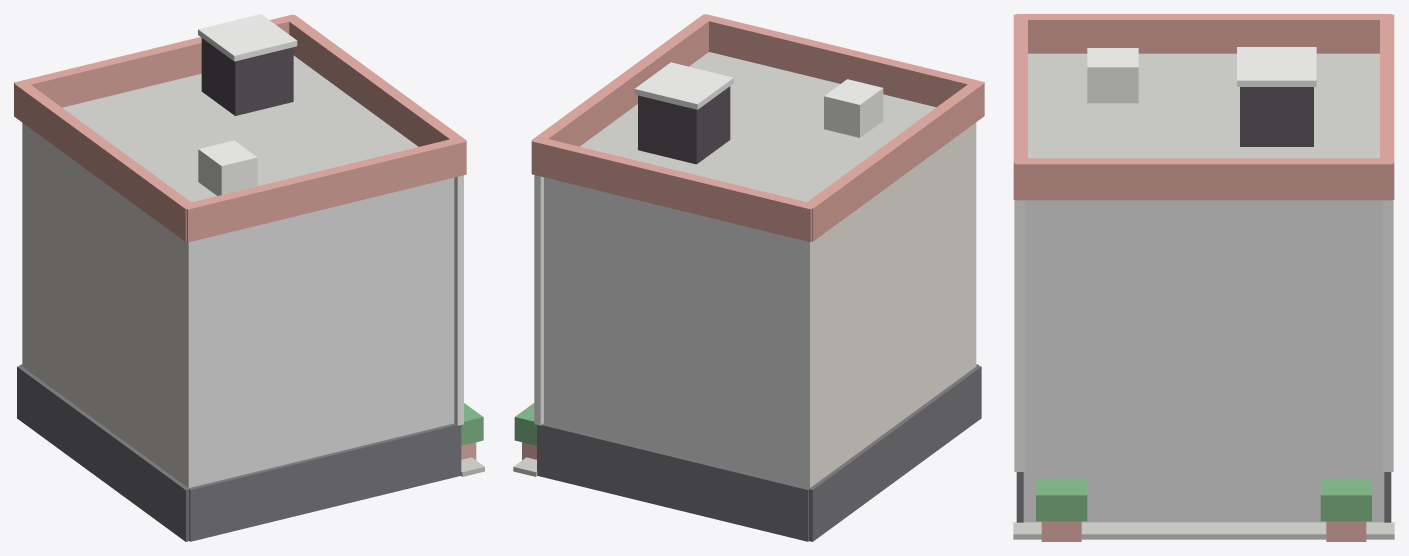
File: FShop_Sq_Flat.fbx
3 renders of one model, left to right at view 1: azimuth 30°, elevation 25°; view 2: azimuth 150°, elevation 25°; view 3: azimuth 270°, elevation 25°, orthographic. The views are drawn at different scales.
Visible parts, largest first — view 1: FShop_Sq_Flat; view 2: FShop_Sq_Flat; view 3: FShop_Sq_Flat.
Part boxes in pixels (x1,y1,x2,y2): FShop_Sq_Flat: (14,14,484,541); FShop_Sq_Flat: (513,14,984,541); FShop_Sq_Flat: (1013,14,1394,541).
Bounding box in the file's own units: 6.82 × 8.01 × 6.7.
